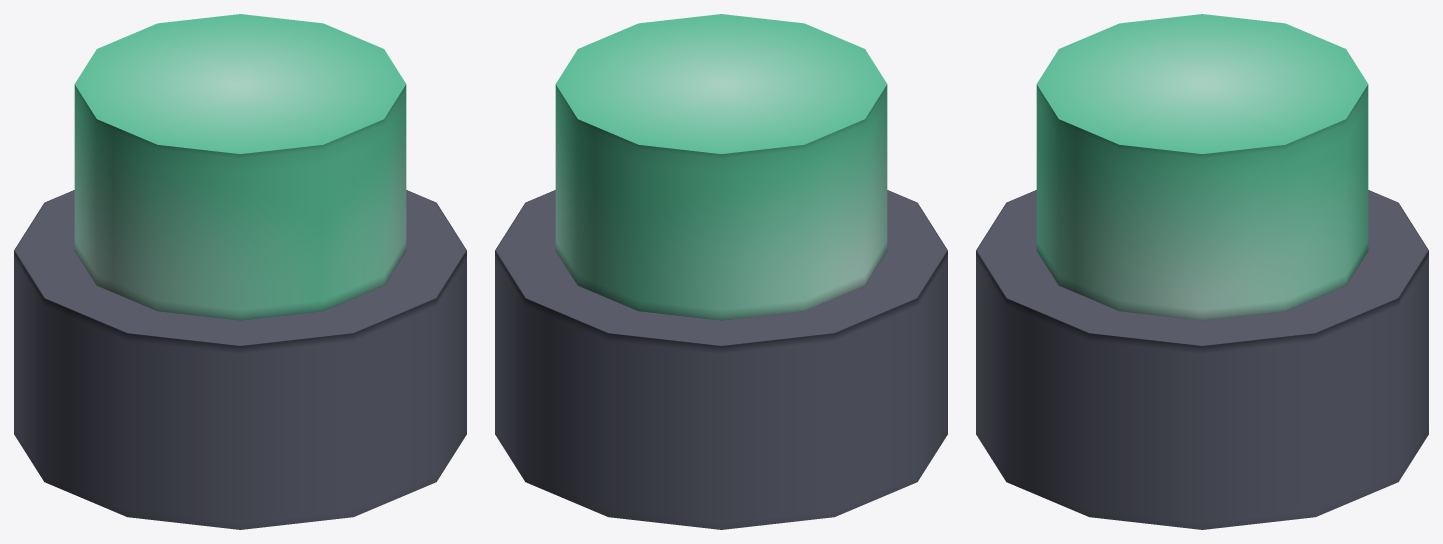
File: Button_Circular_Green.FBX
3 views of the same model, side by side, from view 1: azimuth 30°, elevation 25°; view 2: azimuth 150°, elevation 25°; view 3: azimuth 270°, elevation 25° (orthographic).
Visible parts, largest first — view 1: Button_Circular_Green, Push_Me; view 2: Button_Circular_Green, Push_Me; view 3: Button_Circular_Green, Push_Me.
Part boxes in pixels (x1,y1,x2,y2): Button_Circular_Green: [14, 190, 466, 529]; Push_Me: [74, 14, 406, 320]; Button_Circular_Green: [495, 190, 947, 529]; Push_Me: [555, 14, 887, 320]; Button_Circular_Green: [976, 190, 1428, 529]; Push_Me: [1036, 14, 1368, 320].
Bounding box in the file's own units: 0.0863 × 0.0736 × 0.0863.
Materials: 1 (1 with a texture image).
